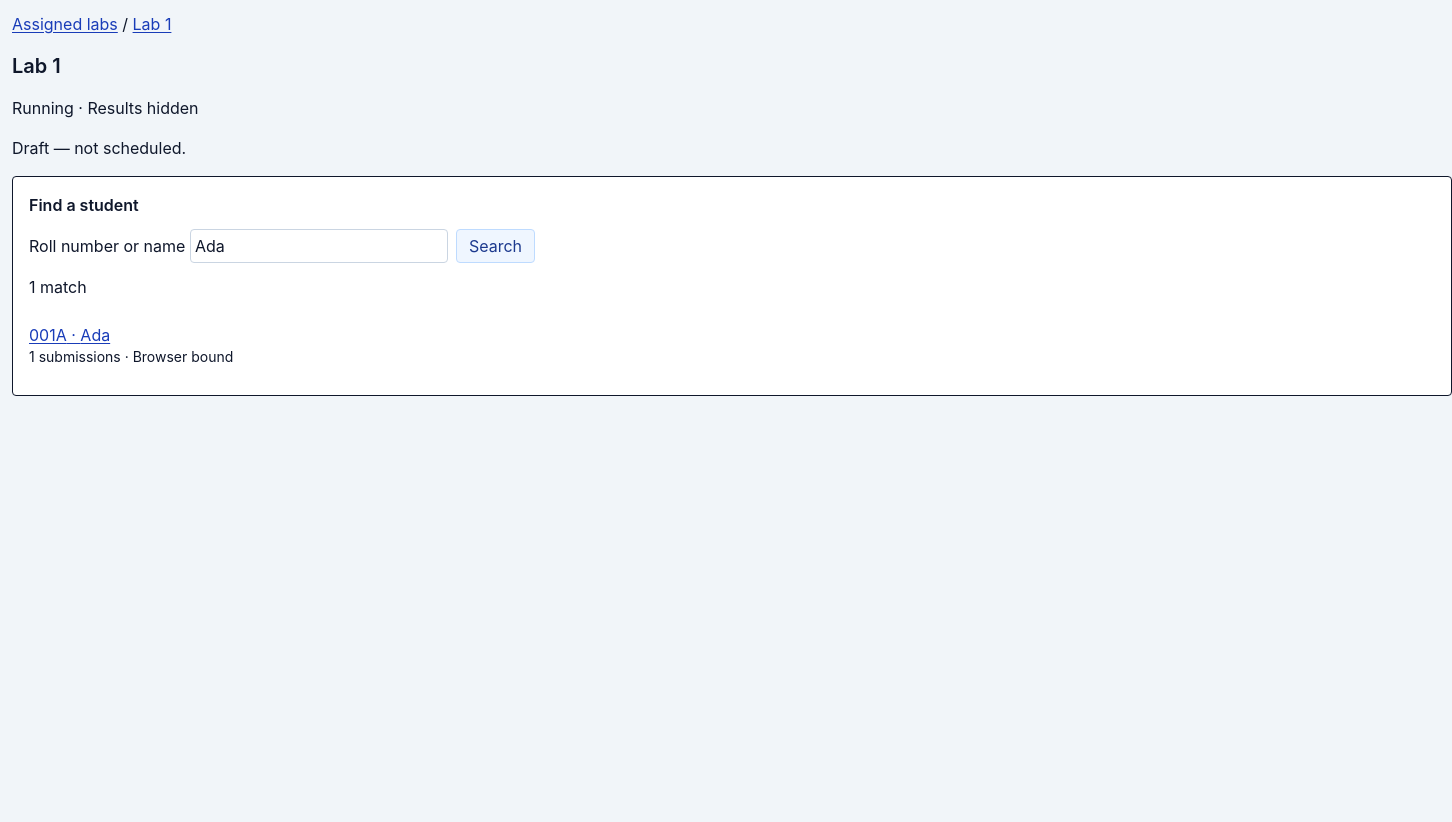
Test case: search to student loads submissions without a refresh
This screenshot has width=1452, height=822.
Click the link "001A · Ada".
click(48, 335)  # box left=29, top=325, right=110, bottom=345
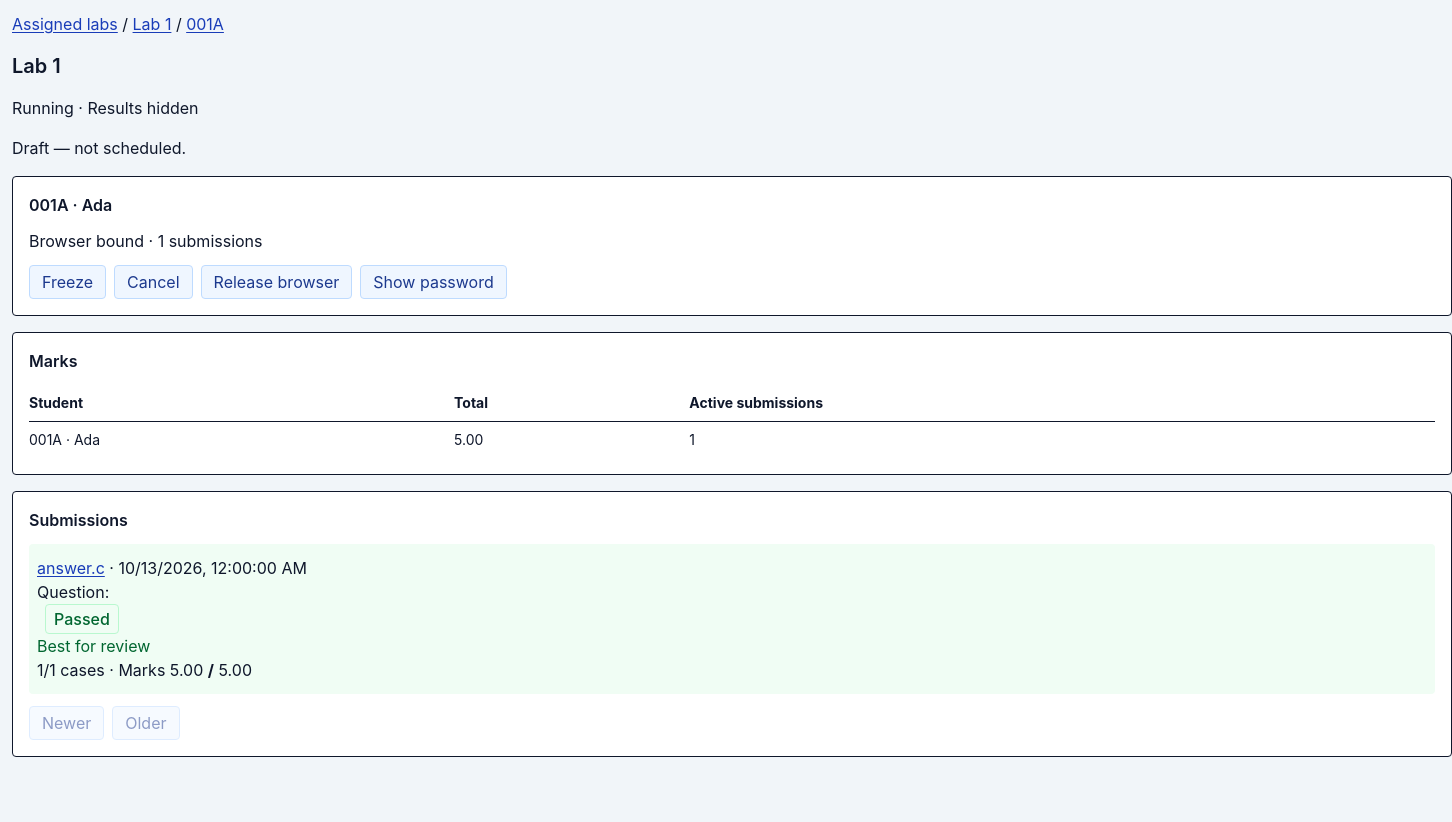
Check: the link "answer.c" is shown, box left=37, top=558, right=105, bottom=578
